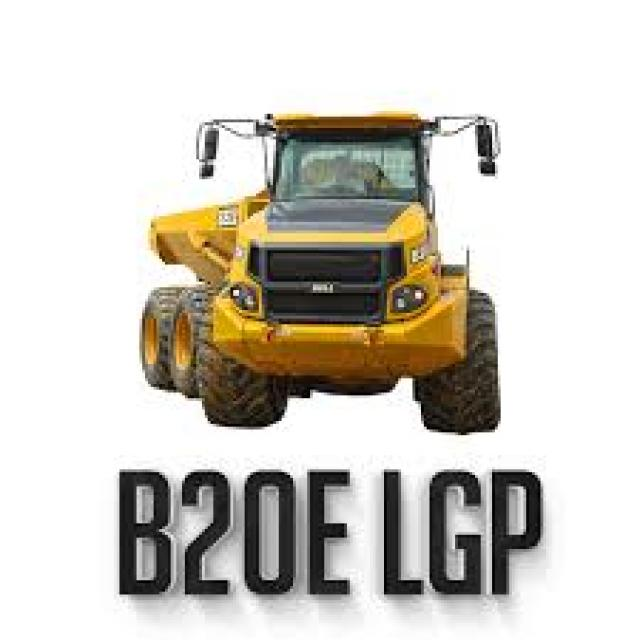dump_truck: (128, 77, 555, 441)
